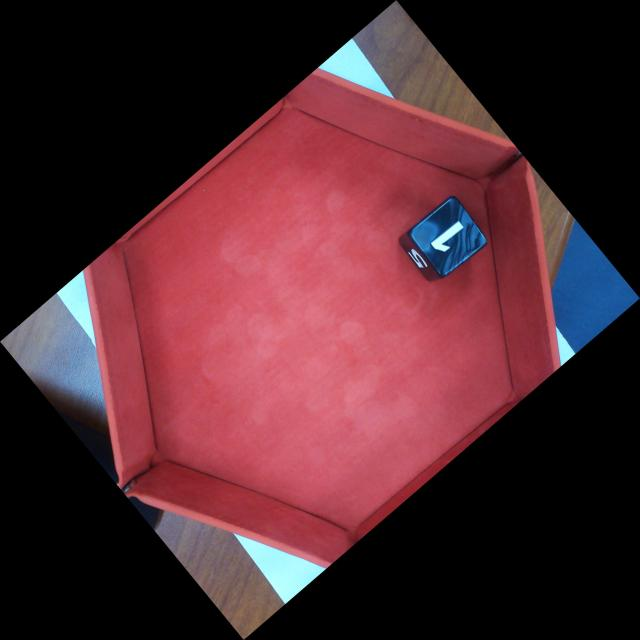dice: (409, 196, 489, 277)
